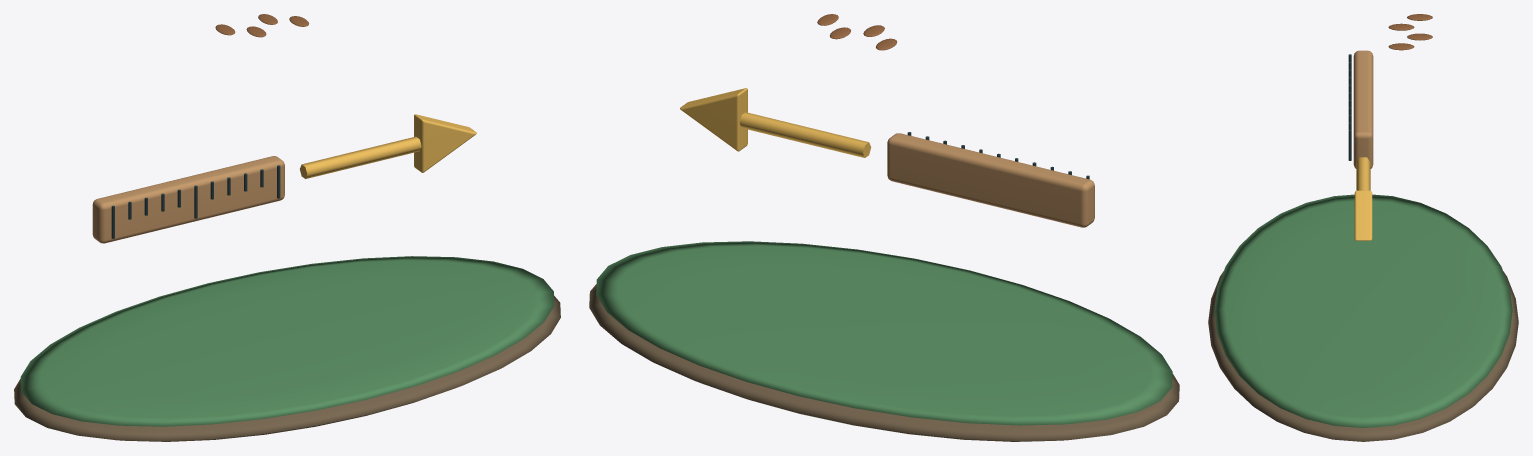
The model's file is complete-third-measured-departure.glb.
3 renders of one model, left to right at view 1: azimuth 30°, elevation 25°; view 2: azimuth 150°, elevation 25°; view 3: azimuth 270°, elevation 25°, orthographic. The views are drawn at different scales.
Visible parts, largest first — view 1: complete-third-measured-departure_surface_01, complete-third-measured-departure_surface_00, complete-third-measured-departure_surface_02, complete-third-measured-departure_surface_04, complete-third-measured-departure_surface_03, complete-third-measured-departure_surface_05; view 2: complete-third-measured-departure_surface_01, complete-third-measured-departure_surface_00, complete-third-measured-departure_surface_02, complete-third-measured-departure_surface_04, complete-third-measured-departure_surface_05; view 3: complete-third-measured-departure_surface_01, complete-third-measured-departure_surface_00, complete-third-measured-departure_surface_02, complete-third-measured-departure_surface_04, complete-third-measured-departure_surface_05, complete-third-measured-departure_surface_03.
Part boxes in pixels (x1,y1,x2,y2): complete-third-measured-departure_surface_01: [20, 256, 554, 426]; complete-third-measured-departure_surface_00: [14, 295, 560, 441]; complete-third-measured-departure_surface_02: [92, 156, 284, 243]; complete-third-measured-departure_surface_04: [300, 114, 476, 178]; complete-third-measured-departure_surface_03: [111, 165, 280, 238]; complete-third-measured-departure_surface_05: [215, 14, 308, 37]; complete-third-measured-departure_surface_01: [596, 241, 1172, 425]; complete-third-measured-departure_surface_00: [589, 284, 1179, 441]; complete-third-measured-departure_surface_02: [887, 133, 1094, 227]; complete-third-measured-departure_surface_04: [680, 88, 871, 157]; complete-third-measured-departure_surface_05: [817, 14, 896, 50]; complete-third-measured-departure_surface_01: [1214, 194, 1512, 427]; complete-third-measured-departure_surface_00: [1208, 271, 1518, 441]; complete-third-measured-departure_surface_02: [1353, 50, 1373, 168]; complete-third-measured-departure_surface_04: [1354, 157, 1372, 240]; complete-third-measured-departure_surface_05: [1388, 14, 1432, 50]; complete-third-measured-departure_surface_03: [1348, 54, 1351, 160].
Bounding box in the file's own units: 4.56 × 2.72 × 2.5.
